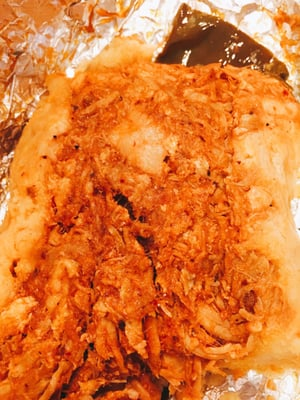sushi: (0, 2, 300, 398)
